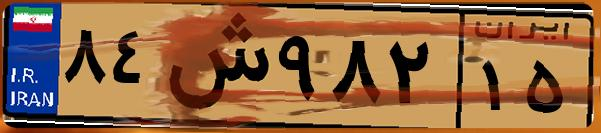1: (475, 38, 525, 113)
2: (385, 28, 445, 110)
4: (110, 28, 158, 98)
5: (525, 38, 570, 115)
8: (330, 28, 385, 110), (57, 26, 110, 100)
9: (270, 28, 330, 110)
ش: (158, 12, 270, 120)
